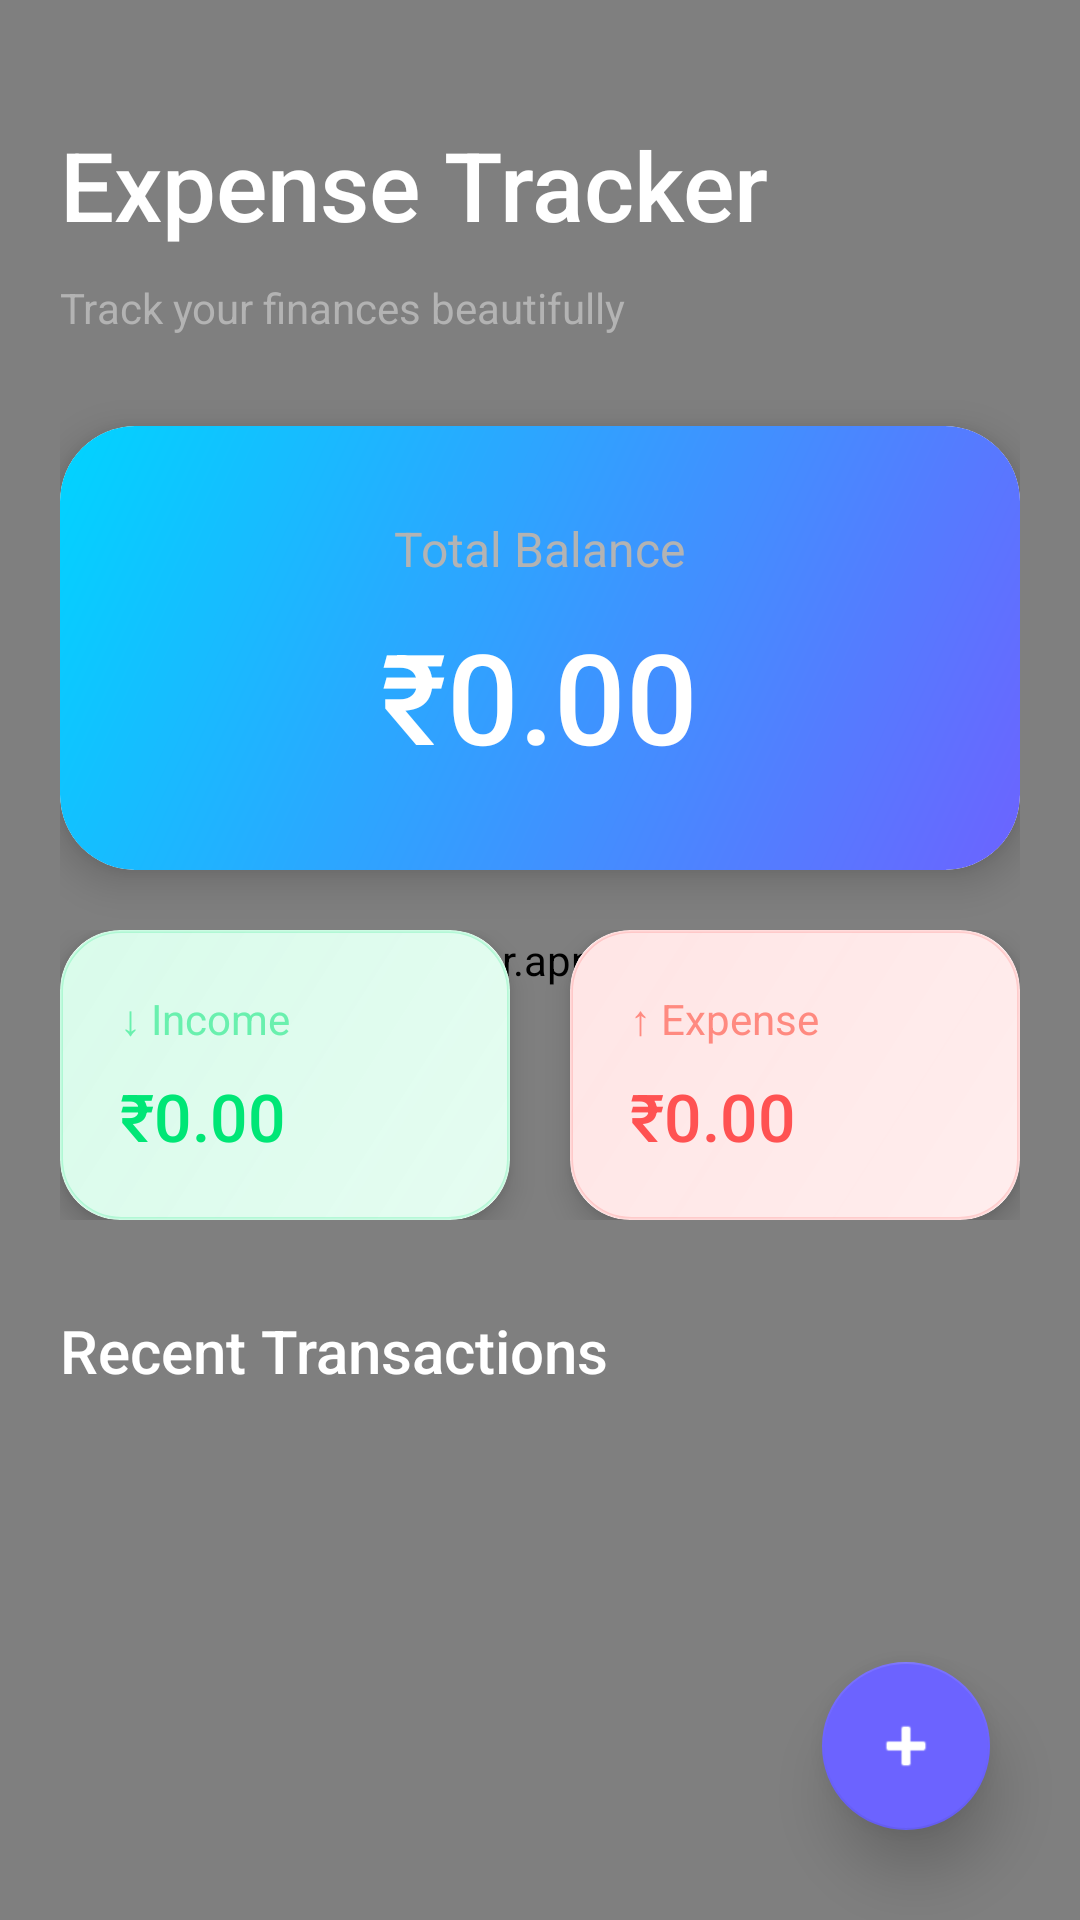

Screen size 1080x1920. Icon name, then its box in pixels as bbox=[x1, y1, x2, y2]:
add: bbox=[822, 1662, 990, 1830]
